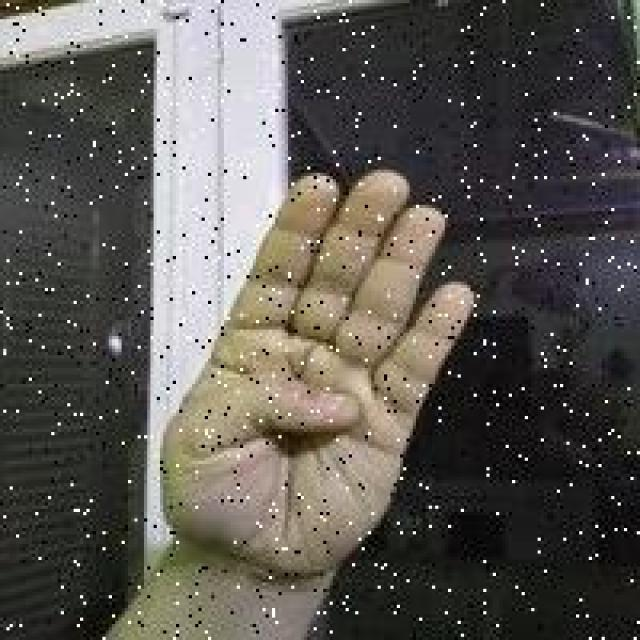B: (147, 160, 483, 589)
